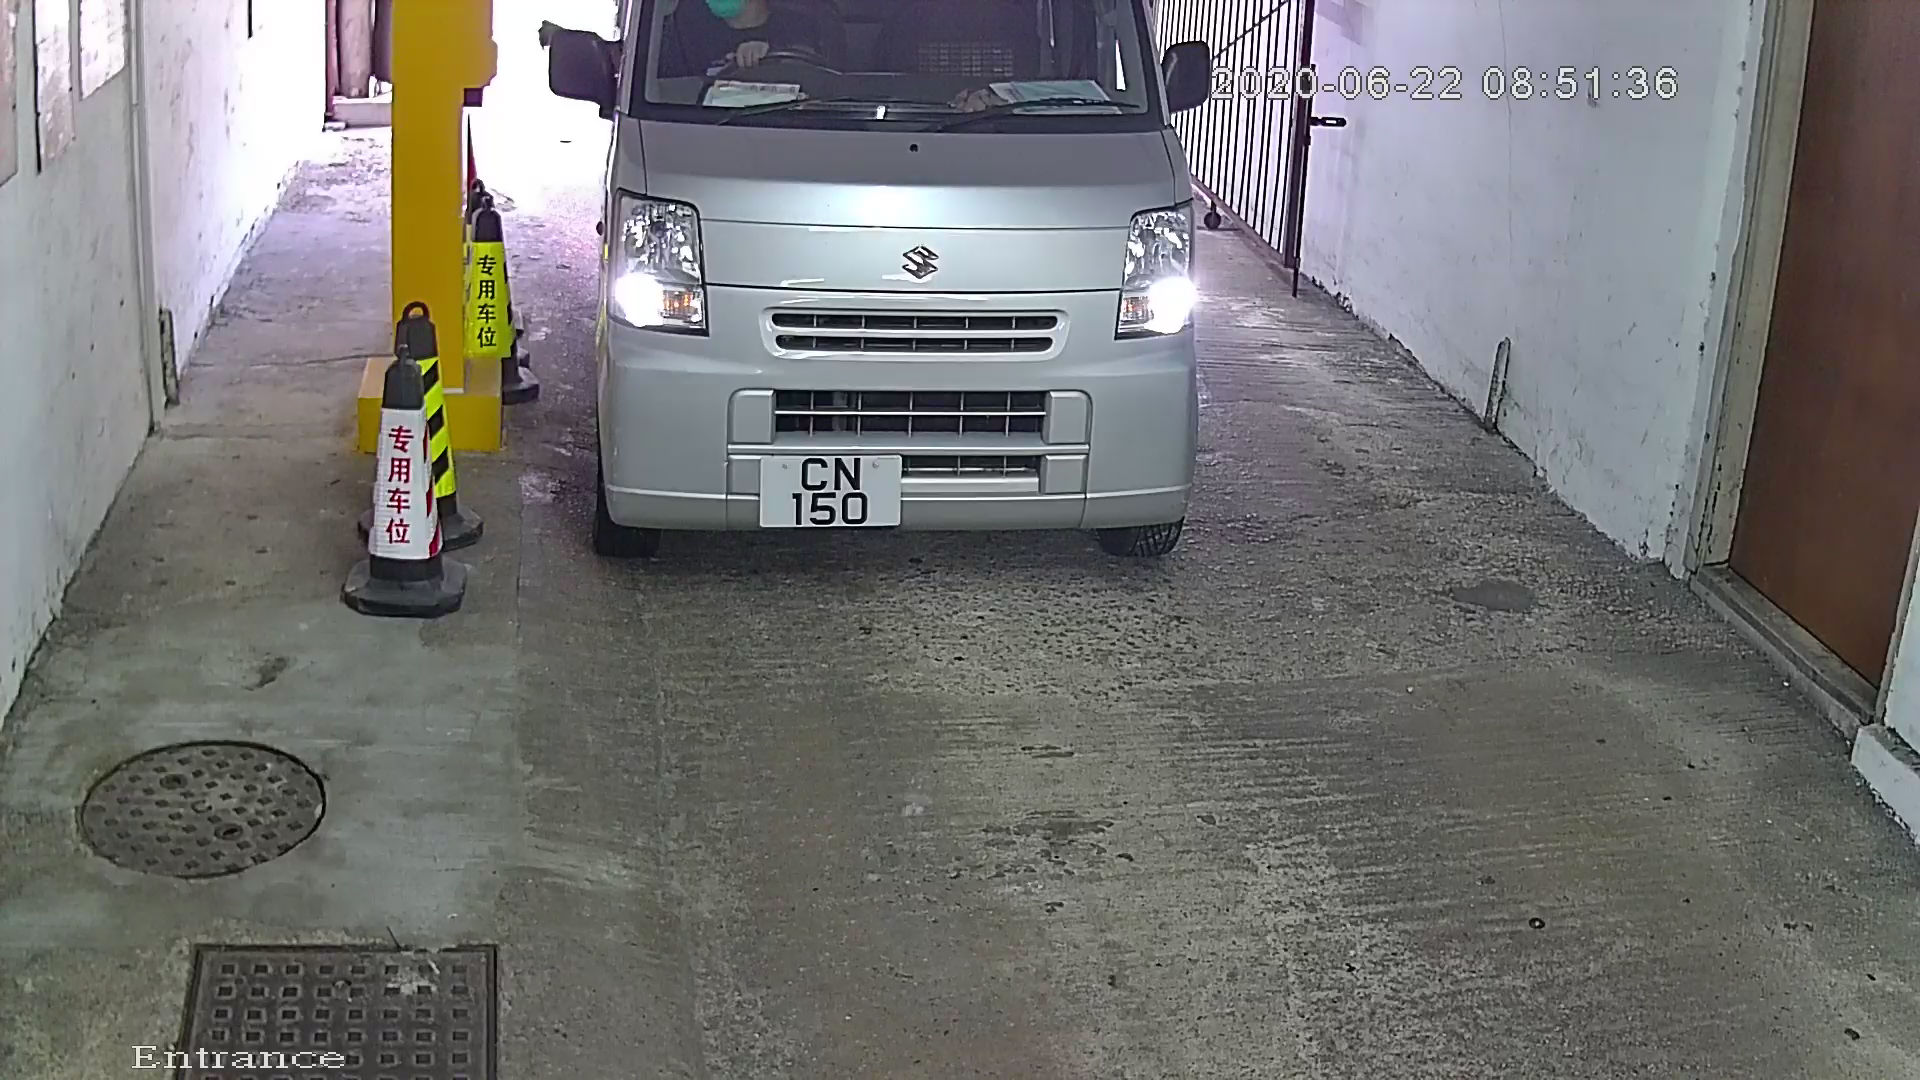van_s: (498, 3, 1258, 589)
